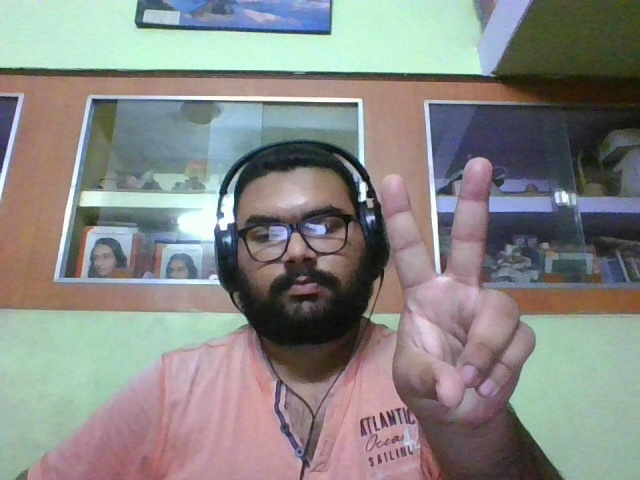iloveyou: (378, 155, 540, 433)
